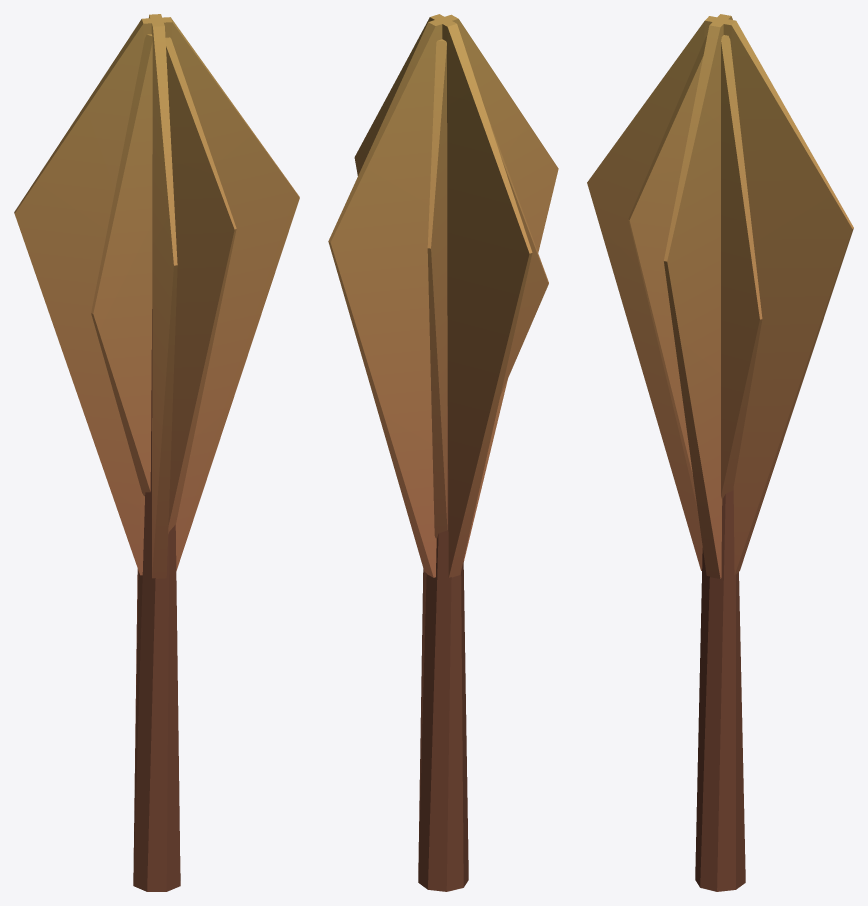
Rendered from Tree_31_gradient_yellow_vc.fbx.
3 renders of one model, left to right at view 1: azimuth 30°, elevation 25°; view 2: azimuth 150°, elevation 25°; view 3: azimuth 270°, elevation 25°, orthographic.
Parts seen in each view (by area): view 1: Tree_31_gradient_yellow_vc; view 2: Tree_31_gradient_yellow_vc; view 3: Tree_31_gradient_yellow_vc.
Part boxes in pixels (bbox=[...]): Tree_31_gradient_yellow_vc: bbox=[14, 14, 299, 891]; Tree_31_gradient_yellow_vc: bbox=[328, 14, 558, 891]; Tree_31_gradient_yellow_vc: bbox=[587, 14, 853, 891].
Bounding box in the file's own units: 84.61 × 301 × 84.61.
